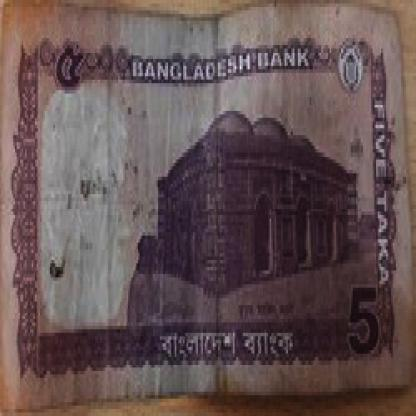Five Taka: (370, 97, 394, 288), (348, 277, 386, 364), (53, 38, 85, 97)
